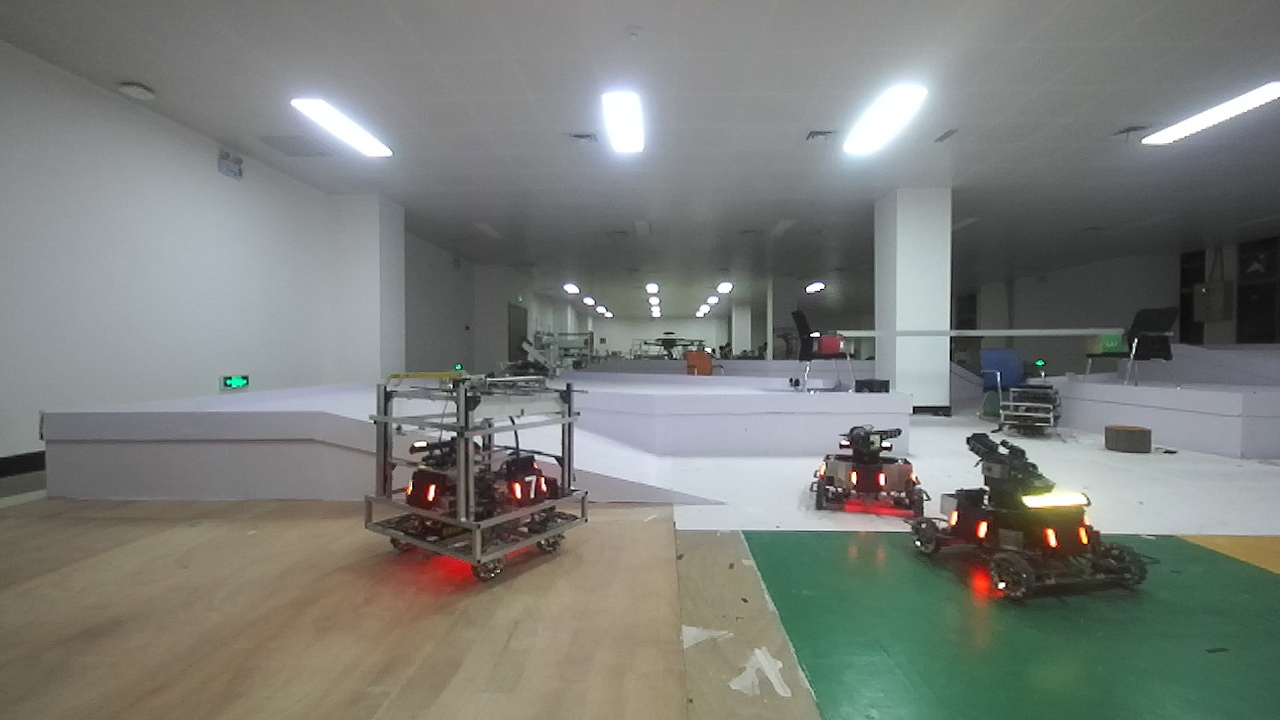car: (362, 370, 624, 581), (919, 430, 1154, 607), (809, 426, 917, 531)
